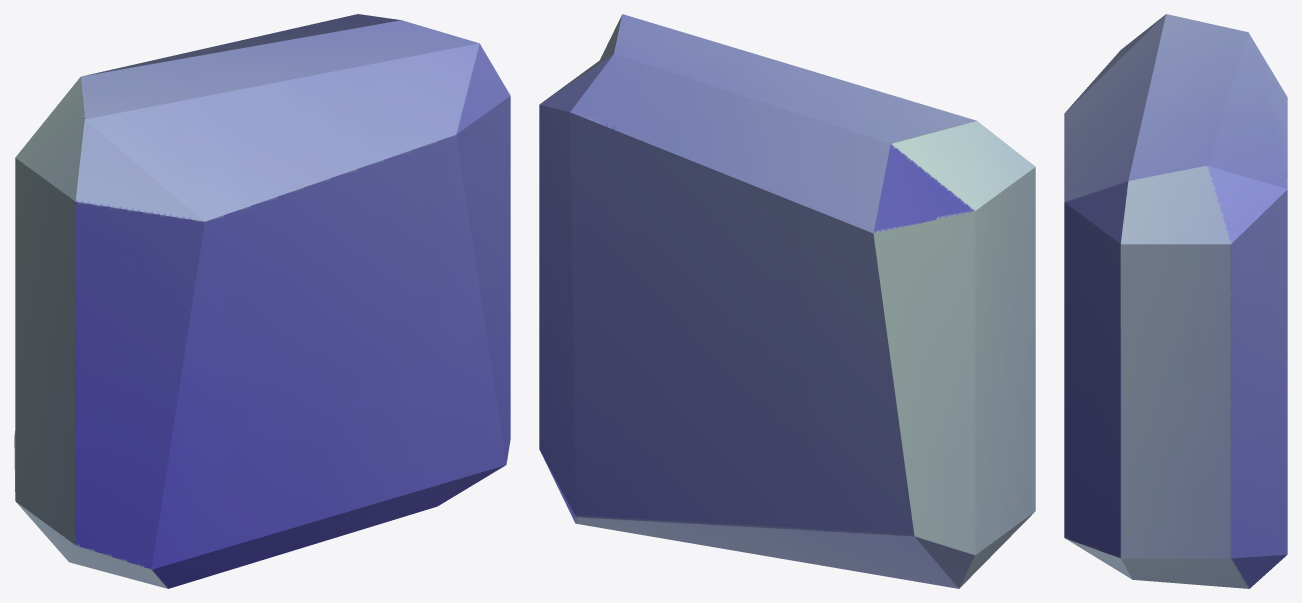
File: SmallPurpleRectangle.fbx
3 renders of one model, left to right at view 1: azimuth 30°, elevation 25°; view 2: azimuth 150°, elevation 25°; view 3: azimuth 270°, elevation 25°, orthographic. The views are drawn at different scales.
Visible parts, largest first — view 1: Cube.003; view 2: Cube.003; view 3: Cube.003.
Part boxes in pixels (x1,y1,x2,y2): Cube.003: [14, 14, 510, 588]; Cube.003: [539, 14, 1035, 588]; Cube.003: [1064, 14, 1287, 588].
Bounding box in the file's own units: 49.1 × 49.1 × 23.84.
